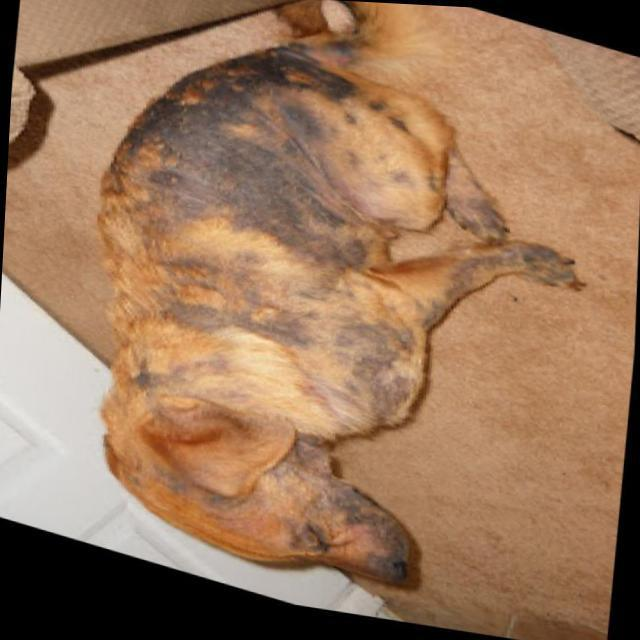mange: (92, 41, 404, 422)
